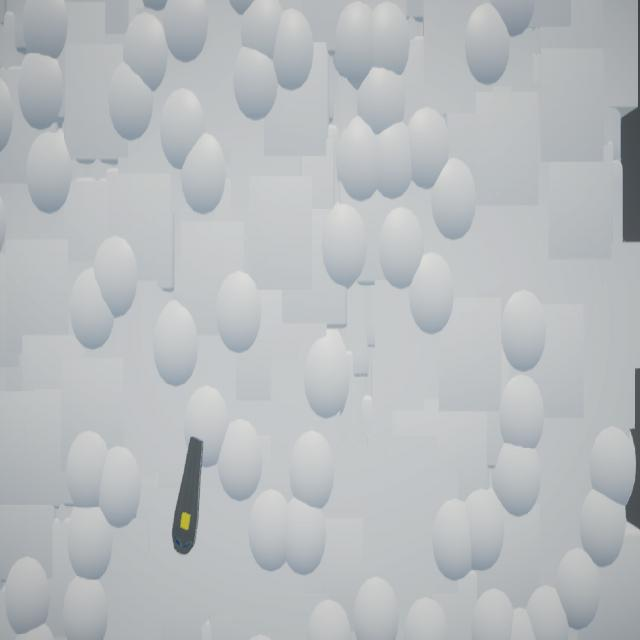handle_knife: (173, 437, 205, 556)
